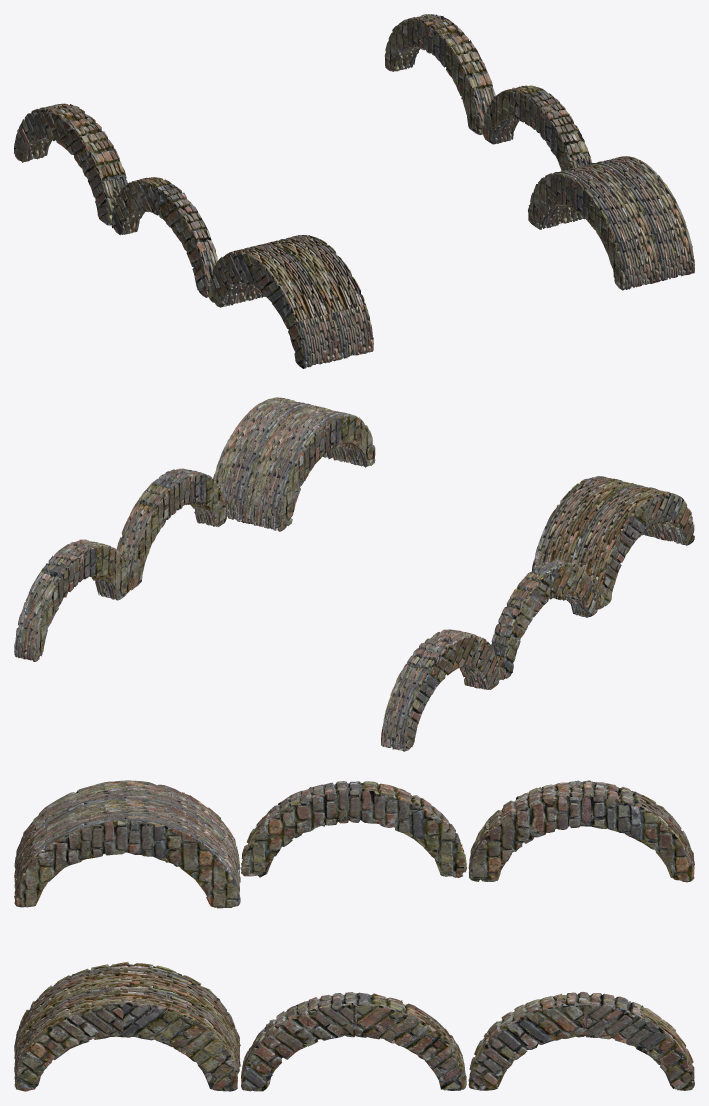
3 views of the same model, one above another, from view 1: azimuth 30°, elevation 25°; view 2: azimuth 150°, elevation 25°; view 3: azimuth 270°, elevation 25° (orthographic). The views are drawn at different scales.
Visible parts, largest first — view 1: Arco; view 2: Arco; view 3: Arco.
Boxes of the visible parts, x1,y1,x2,y2 form: Arco: [14, 14, 694, 368]; Arco: [14, 397, 694, 751]; Arco: [14, 780, 694, 1091].
Size of the model in its own units: 18.35 by 3.45 by 23.61.
1 material, 1 textured.
